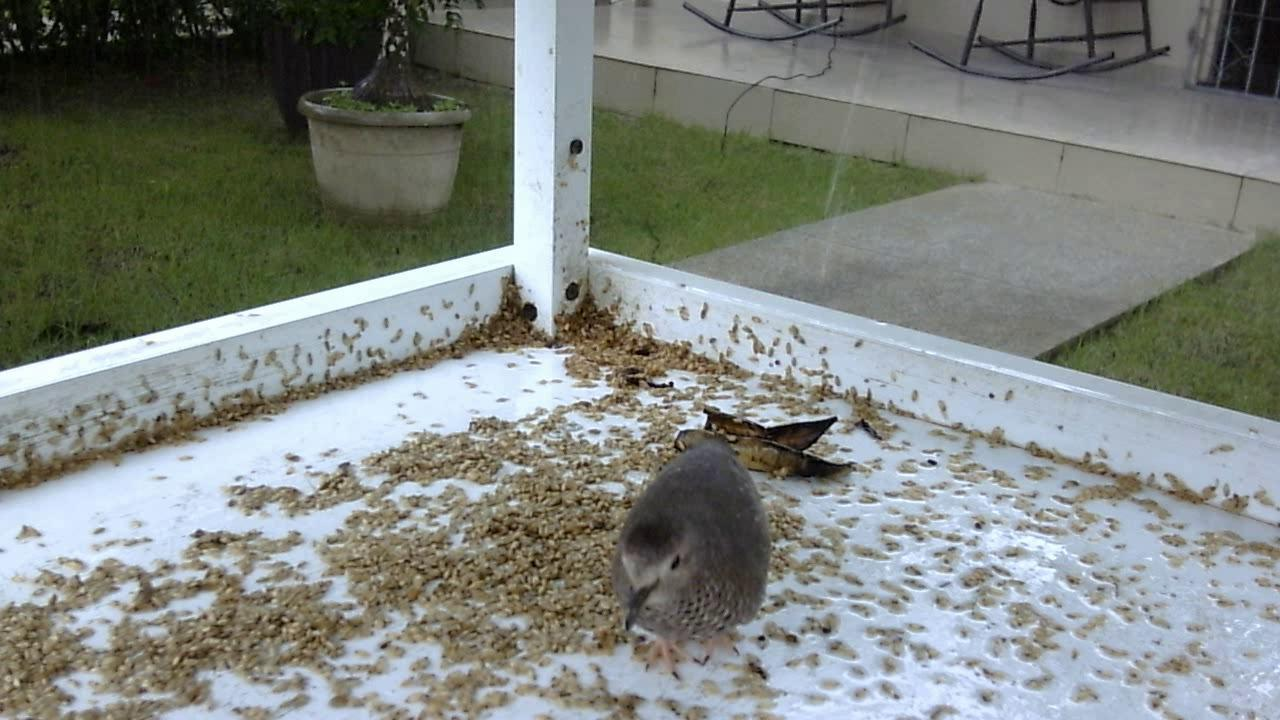rolinha: (605, 439, 780, 677)
